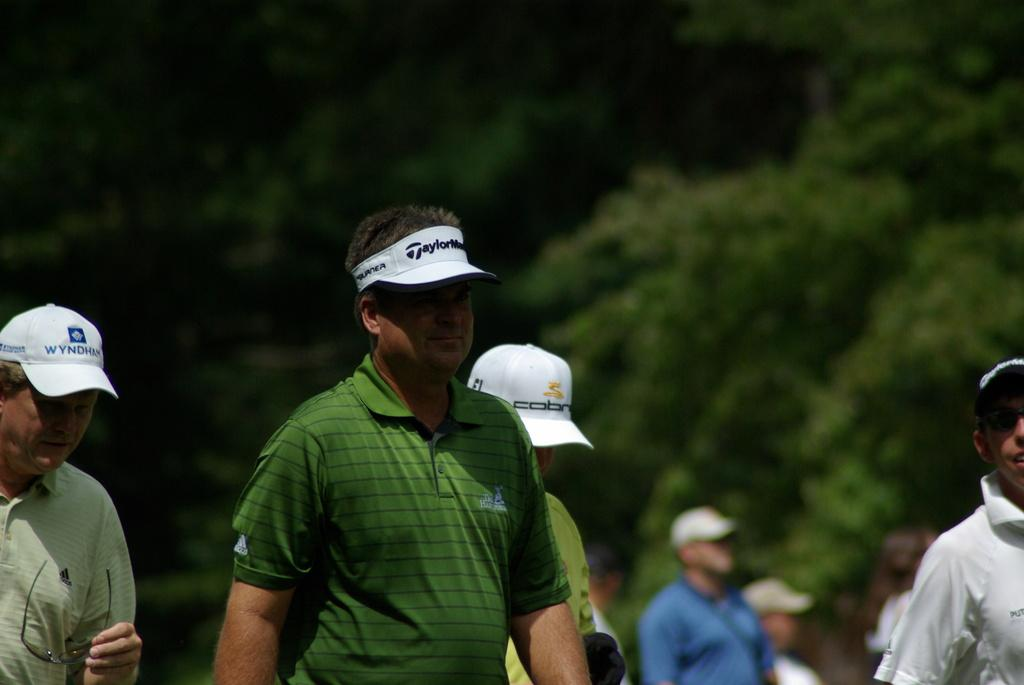Hat: (466, 342, 592, 452), (0, 301, 120, 399), (972, 354, 1022, 420), (742, 575, 814, 614), (670, 504, 734, 547)
